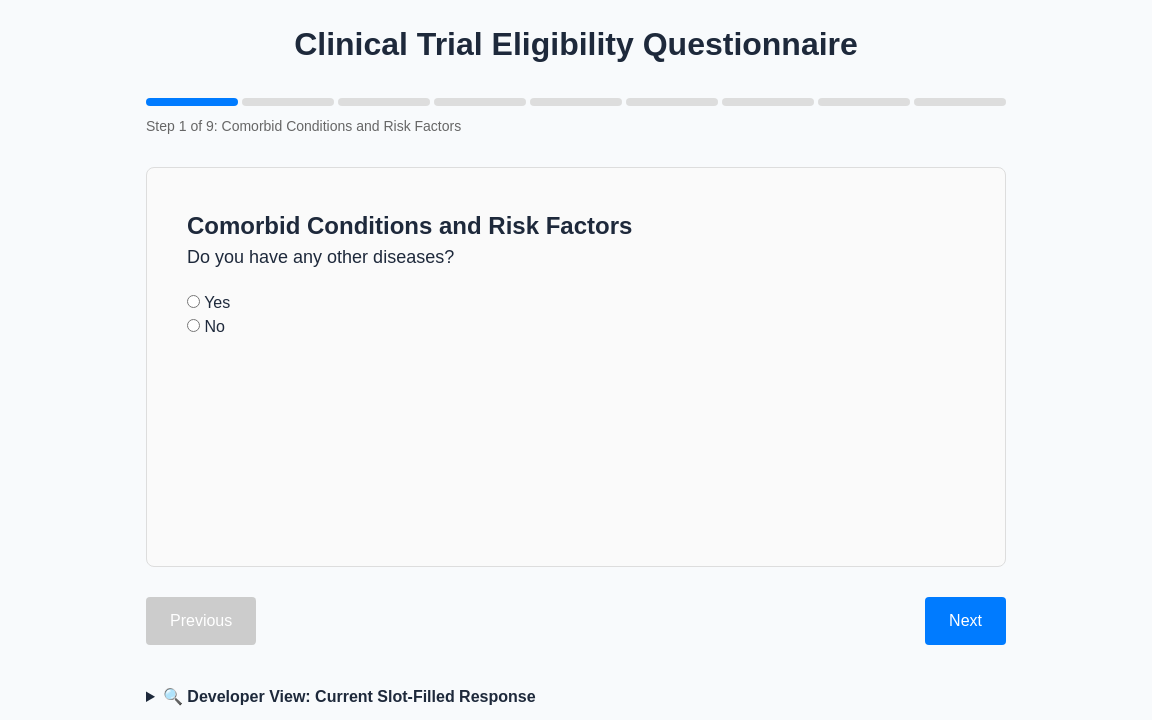
Scenario: Contract 3: Lung Cancer Autocomplete and Matching › Autocomplete Suggestions › shows "lung cancer" when typing "lung"
// Say Yes to having conditions
Click the radio button labelled "Yes": (194, 302) [187,295,200,308]
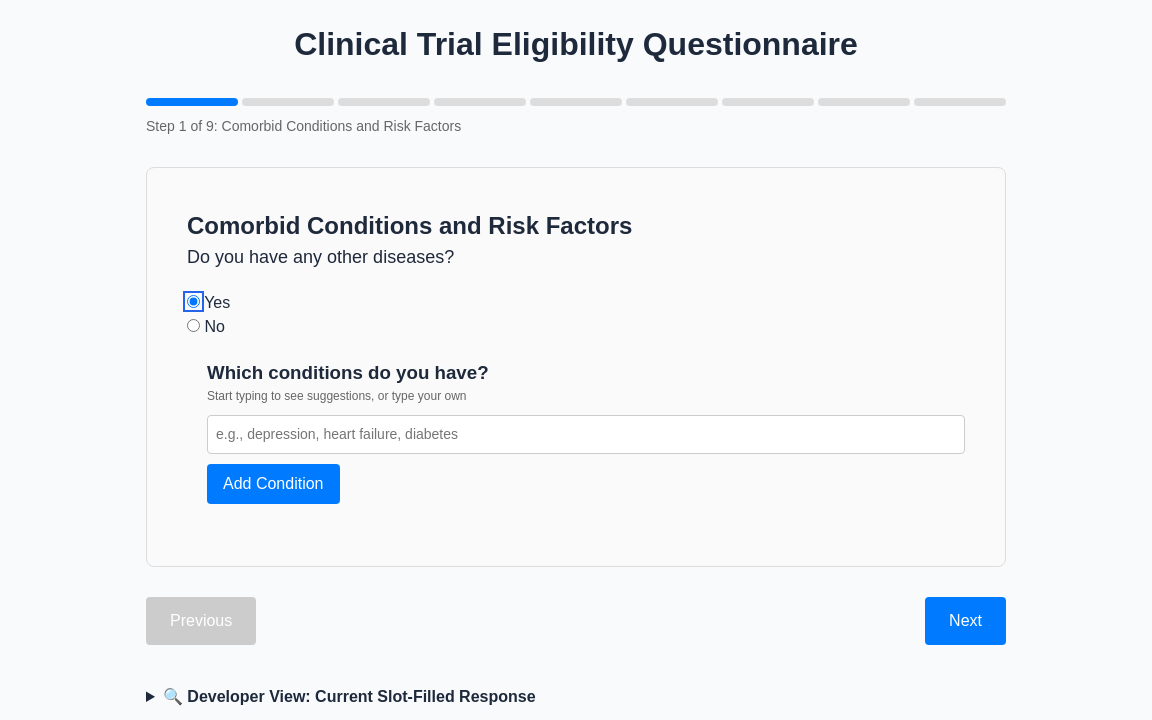
// Type "lung" in the condition input
In the field with placeholder "e.g., depression, heart failure, diabetes": (586, 435) [207,415,965,454], type "lung"
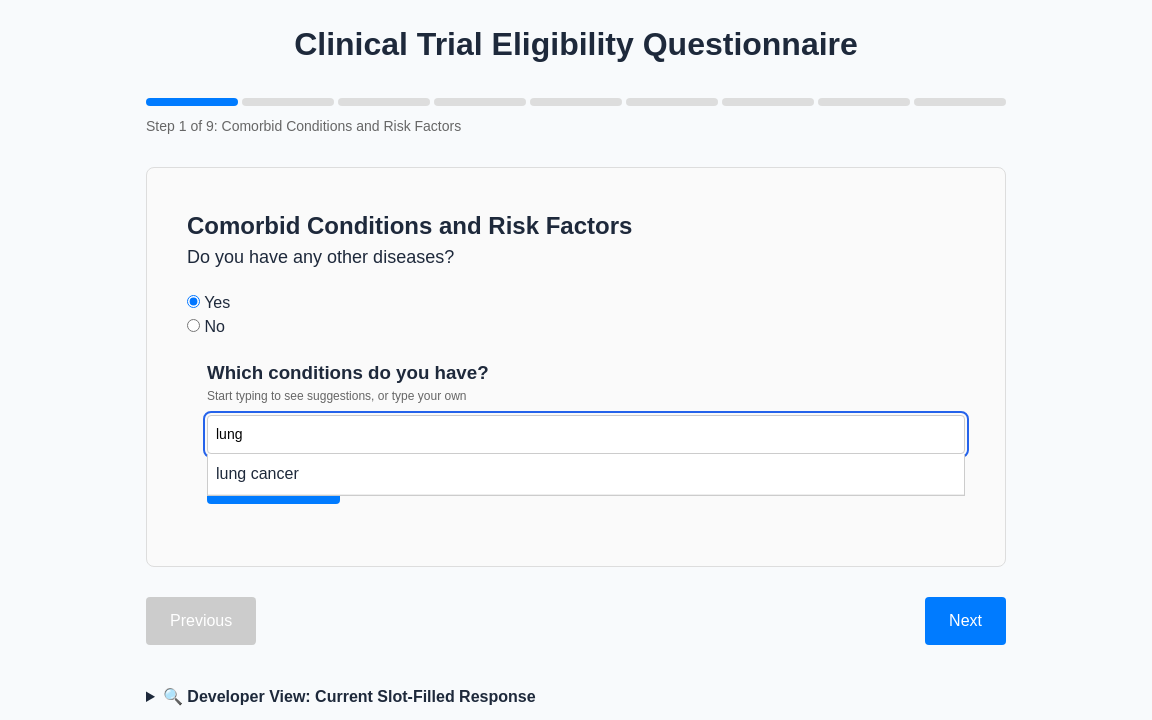
Expected: the text "lung cancer" is shown, [208,454,964,495]
